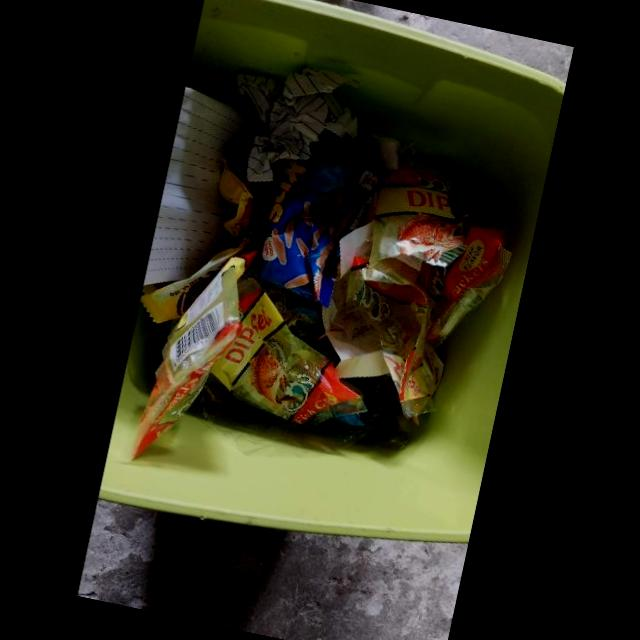bao_bi_thuc_pham: (210, 277, 367, 426), (131, 256, 245, 461), (256, 157, 390, 308), (332, 240, 444, 419), (416, 187, 511, 350), (365, 163, 466, 286), (139, 247, 240, 324), (218, 156, 253, 240)
giay: (143, 86, 253, 286), (236, 68, 359, 182)
